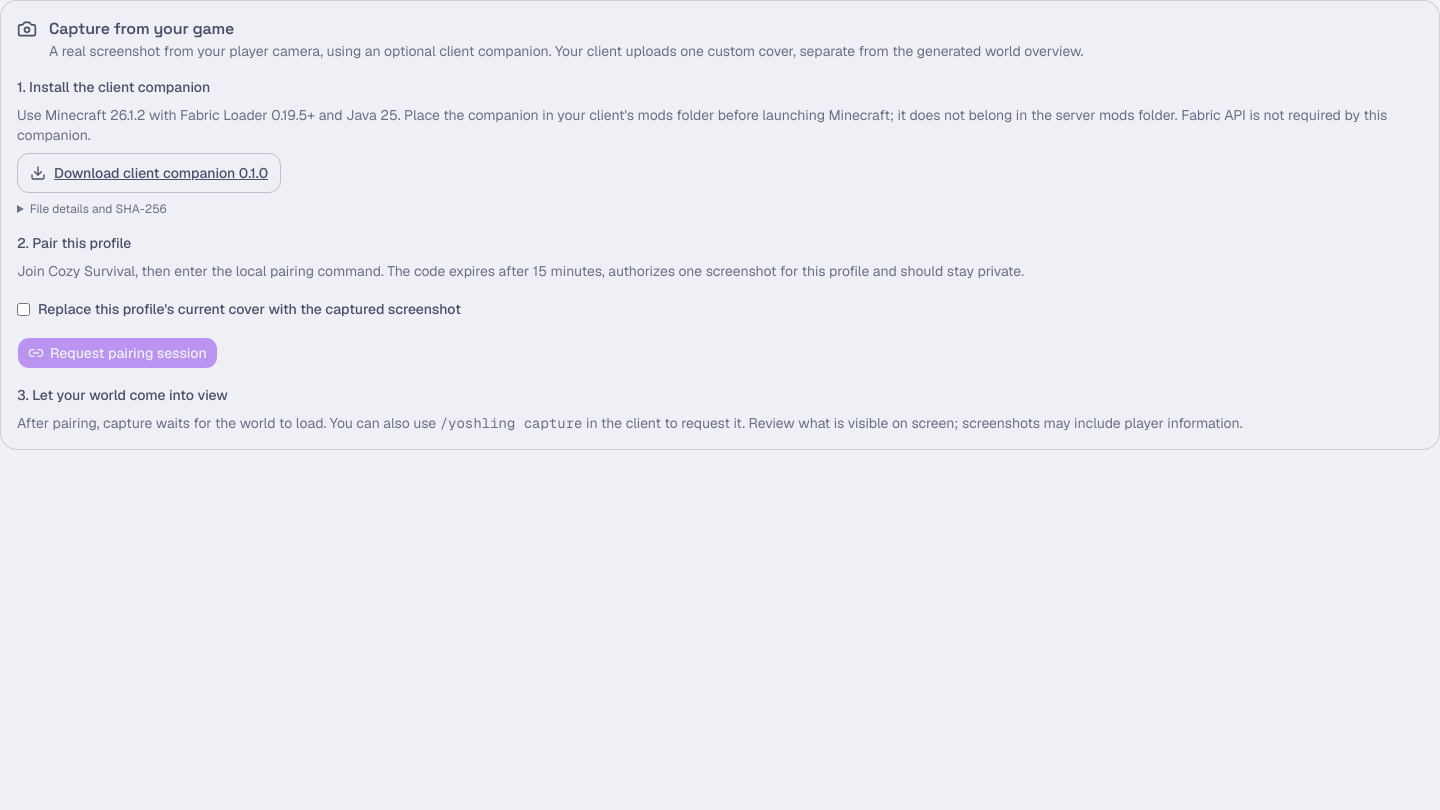
Scenario: player-camera capture panel › requires explicit existing-cover replacement consent
Expected: the link "Download client companion 0.1.0" is shown, [17,153,281,193]
Expected: the button "Request pairing session" is disabled, [17,337,218,369]
What coordinates should you click on to do the following:
click the checkbox
I would click on:
 (24, 309)
Its box is [17,302,30,316].
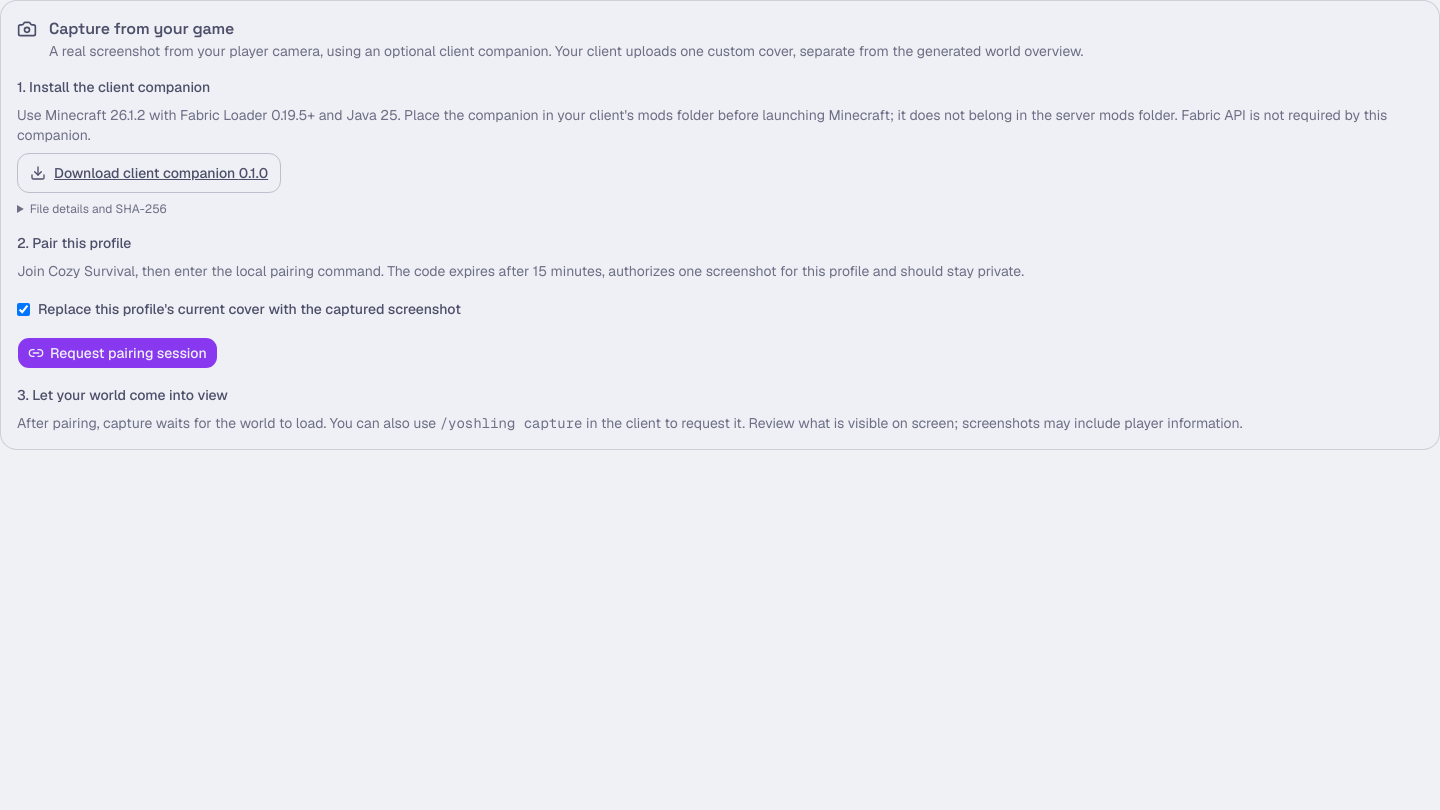
What coordinates should you click on to do the following:
click the button "Request pairing session"
I would click on:
 (117, 353)
Its box is [17,337,218,369].
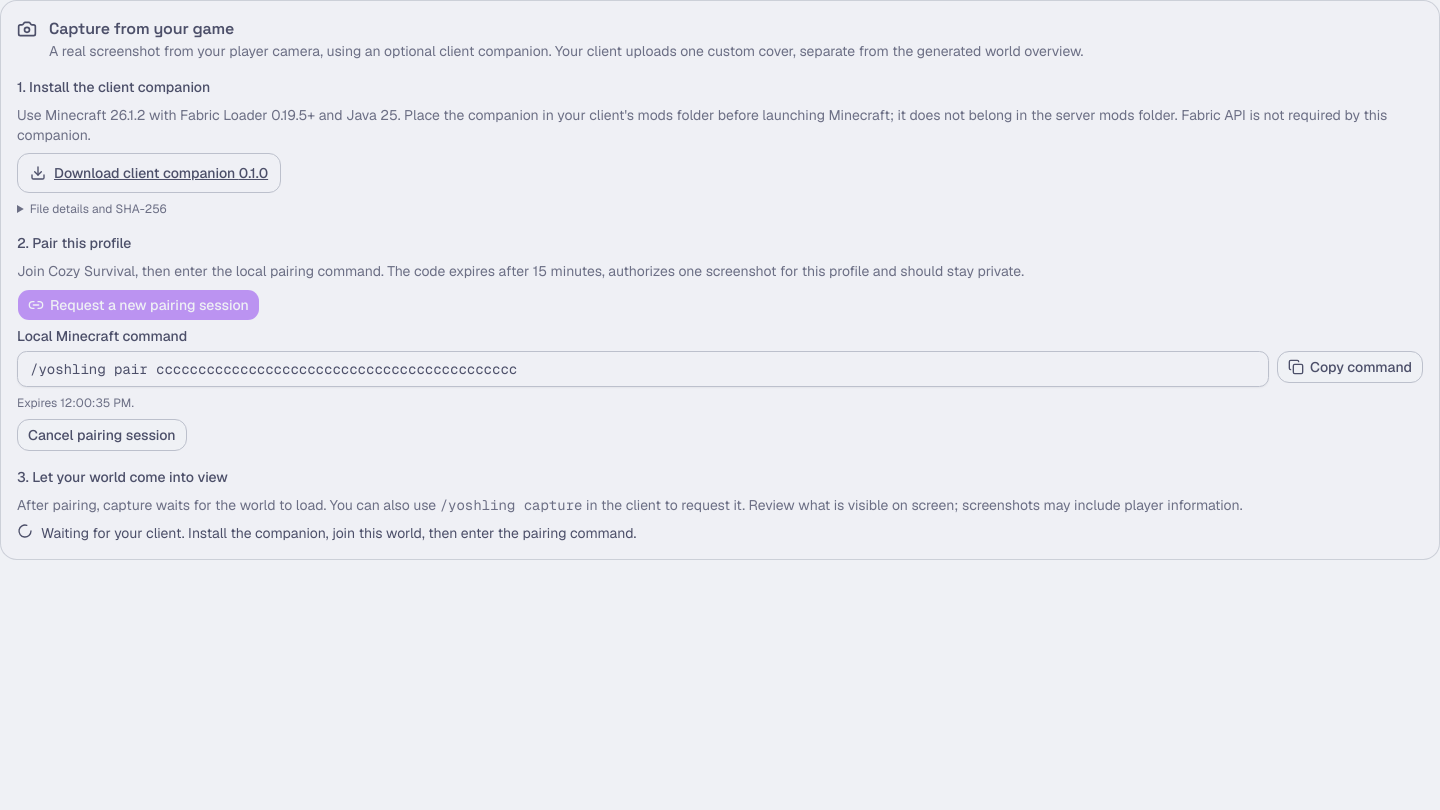
Expected: the field labelled "Local Minecraft command" is shown, [17,351,1269,387]
